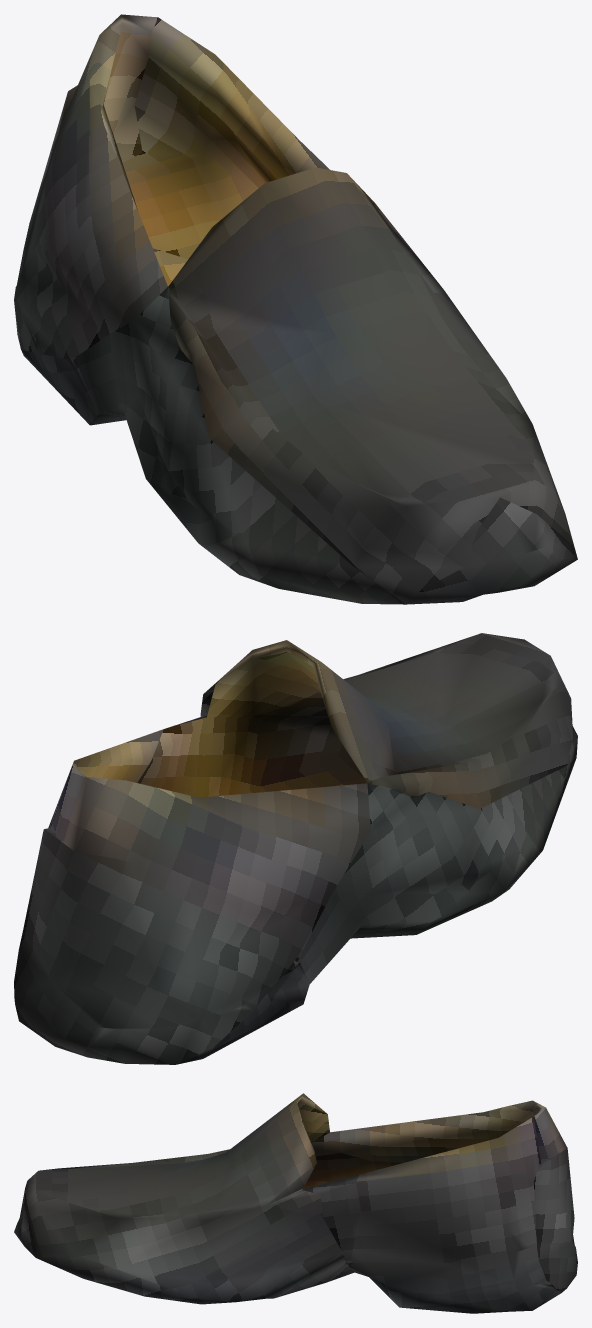
Rendered from Mens_Gold_Cup_ASV_Dress_Casual_Venetian_in_Dark_Brown_Leather-low.glb.
The picture shows the model from 3 angles, top to bottom: view 1: azimuth 30°, elevation 25°; view 2: azimuth 150°, elevation 25°; view 3: azimuth 270°, elevation 25°; orthographic projection. The views are drawn at different scales.
Visible parts, largest first — view 1: Mens_Gold_Cup_ASV_Dress_Casual_Venetian_in_Dark_Brown_Leathe; view 2: Mens_Gold_Cup_ASV_Dress_Casual_Venetian_in_Dark_Brown_Leathe; view 3: Mens_Gold_Cup_ASV_Dress_Casual_Venetian_in_Dark_Brown_Leathe.
Boxes of the visible parts, x1,y1,x2,y2 form: Mens_Gold_Cup_ASV_Dress_Casual_Venetian_in_Dark_Brown_Leathe: (14,14,577,604); Mens_Gold_Cup_ASV_Dress_Casual_Venetian_in_Dark_Brown_Leathe: (14,633,577,1064); Mens_Gold_Cup_ASV_Dress_Casual_Venetian_in_Dark_Brown_Leathe: (14,1093,577,1313).
Bounding box in the file's own units: 0.107 × 0.1058 × 0.2938.
Materials: 1 (1 with a texture image).
